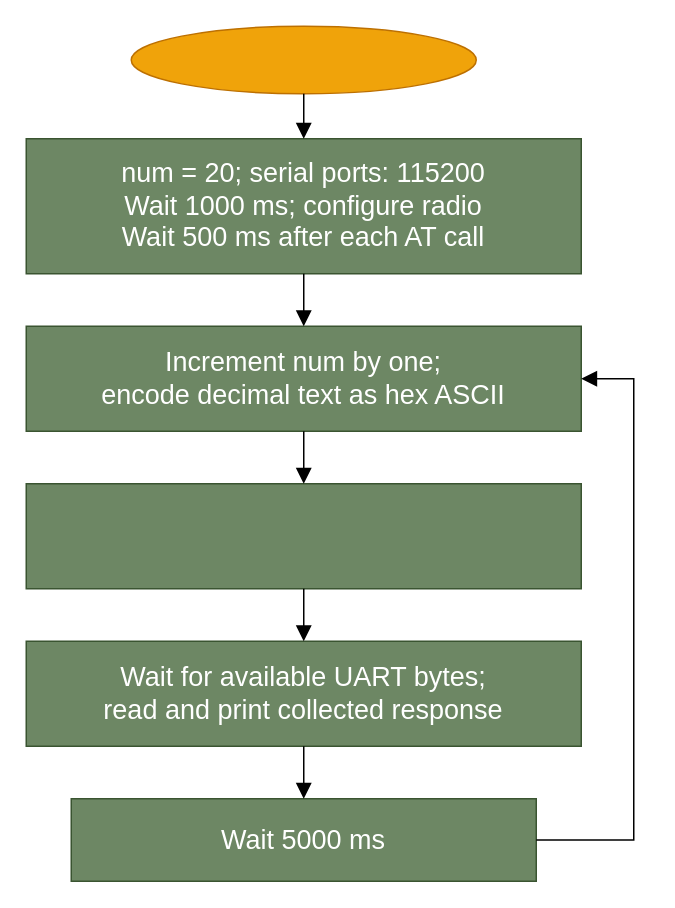
Some shapes in this 675 by 908 pixel diagram are drawn without their labels. Here are the shapes that lost their labels. From the top down, the centre of each, then its label:
the point at 303,59: Start
the point at 303,535: sendRAK: print command; send AT+PSEND through Serial1
